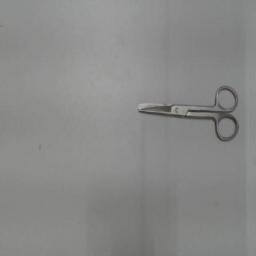Dressing Scissors: (130, 80, 242, 144)
